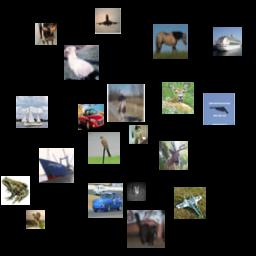airplane: (174, 187, 206, 219), (203, 93, 235, 125), (95, 8, 121, 34)
automobile: (88, 183, 123, 218), (78, 104, 104, 130)
bird: (64, 45, 99, 80), (88, 132, 120, 164), (26, 210, 45, 229)
cat: (127, 210, 165, 248), (127, 182, 146, 201), (129, 125, 148, 144)
deer: (162, 82, 194, 114), (159, 141, 188, 170)
dog: (35, 23, 57, 45)
frog: (1, 176, 30, 205)
ship: (39, 148, 74, 183), (16, 96, 48, 128), (213, 27, 242, 56)
